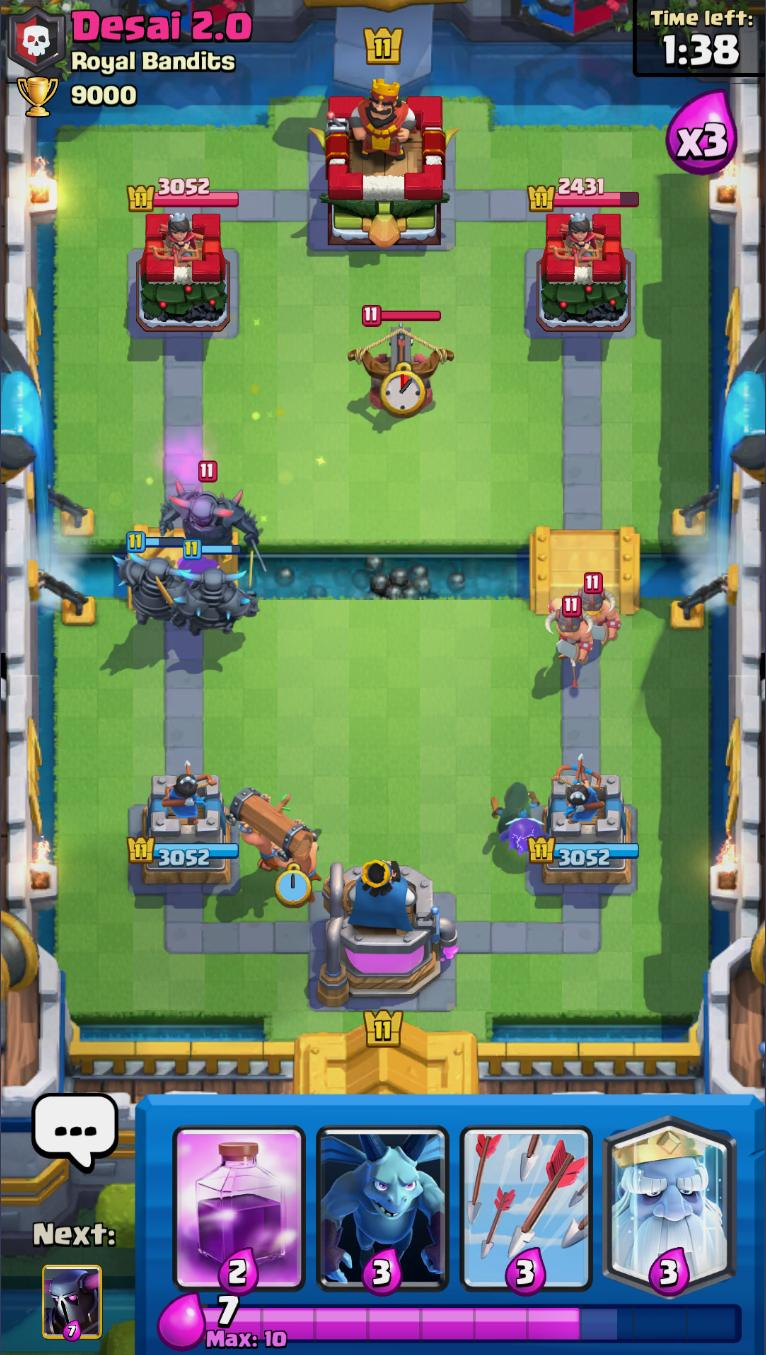ArrowDeck: (456, 1094, 598, 1295)
EliteBarbarian: (542, 595, 596, 668), (570, 571, 623, 644)
Elixir: (203, 1295, 744, 1350)
EnemyTower: (533, 208, 631, 331), (133, 210, 229, 335)
KingTower: (308, 82, 456, 248)
MinionsDeck: (311, 1095, 455, 1296)
MyBandit: (489, 781, 540, 835)
MyBattleRam: (224, 783, 323, 888)
MyElectroSpirit: (497, 817, 553, 854)
MyKingTower: (319, 856, 458, 1009)
MyPekka: (156, 537, 259, 640), (111, 529, 197, 626)
MyPrincessTower: (524, 771, 639, 887), (125, 769, 238, 887)
MyPrincessTowerHP: (125, 836, 238, 868), (525, 835, 637, 867)
Pekka: (159, 459, 262, 550)
PekkaNext: (40, 1264, 105, 1344)
PrincessTower: (546, 213, 603, 264), (144, 214, 200, 264)
RageDeck: (167, 1095, 310, 1296)
RoyaleGhostDeck: (598, 1094, 743, 1296)
TowerPrincessHP: (126, 178, 239, 213), (526, 178, 639, 212)
XBow: (349, 304, 455, 417)
